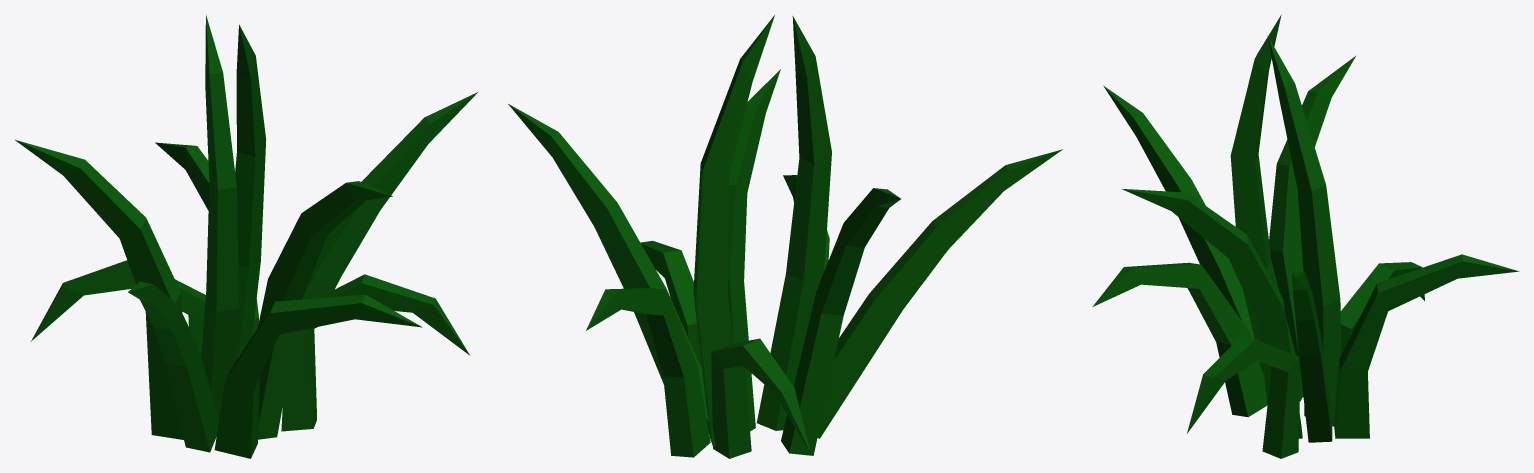
File: grass2_.obj
3 renders of one model, left to right at view 1: azimuth 30°, elevation 25°; view 2: azimuth 150°, elevation 25°; view 3: azimuth 270°, elevation 25°, orthographic. The views are drawn at different scales.
Visible parts, largest first — view 1: Cube.012; view 2: Cube.012; view 3: Cube.012.
Boxes of the visible parts, x1,y1,x2,y2 form: Cube.012: (14,15,477,458); Cube.012: (508,15,1062,458); Cube.012: (1092,14,1519,458).
Size of the model in its own units: 0.1852 by 0.1691 by 0.1643.
